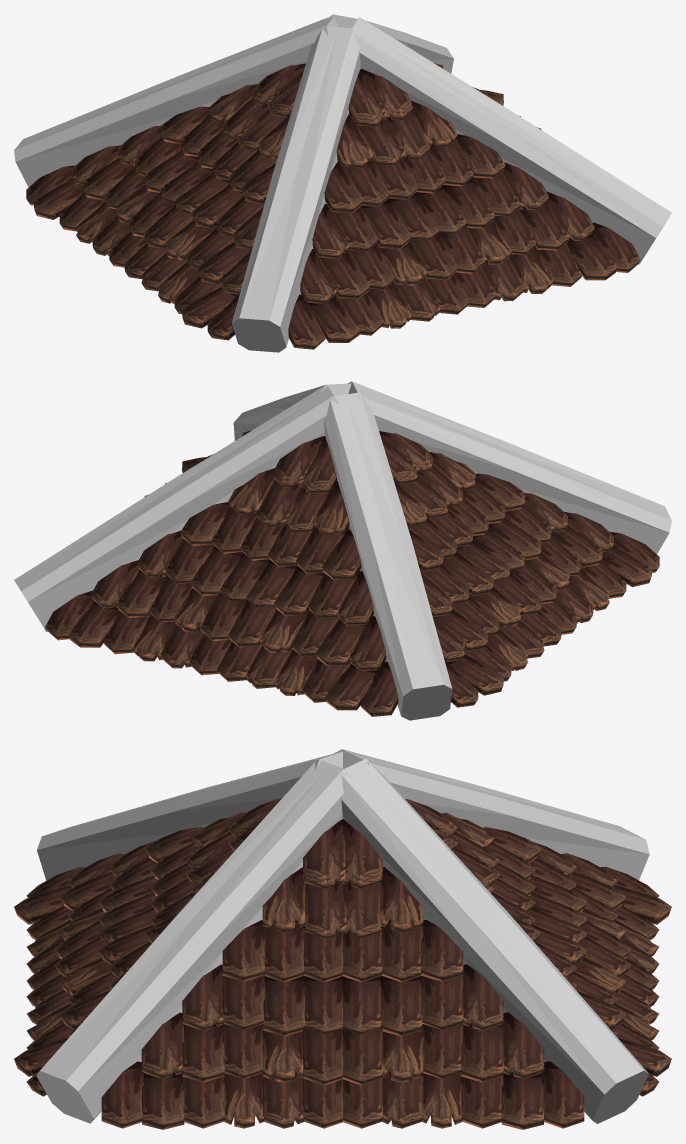
File: VV-RoofTile19.fbx
3 renders of one model, top to bottom at view 1: azimuth 30°, elevation 25°; view 2: azimuth 150°, elevation 25°; view 3: azimuth 270°, elevation 25°, orthographic. The views are drawn at different scales.
Visible parts, largest first — view 1: RoofTile.19; view 2: RoofTile.19; view 3: RoofTile.19.
Part boxes in pixels (bbox=[...]): RoofTile.19: bbox=[14, 14, 671, 352]; RoofTile.19: bbox=[14, 381, 671, 720]; RoofTile.19: bbox=[14, 749, 671, 1129].
Bounding box in the file's own units: 4.9 × 2.03 × 4.9.
